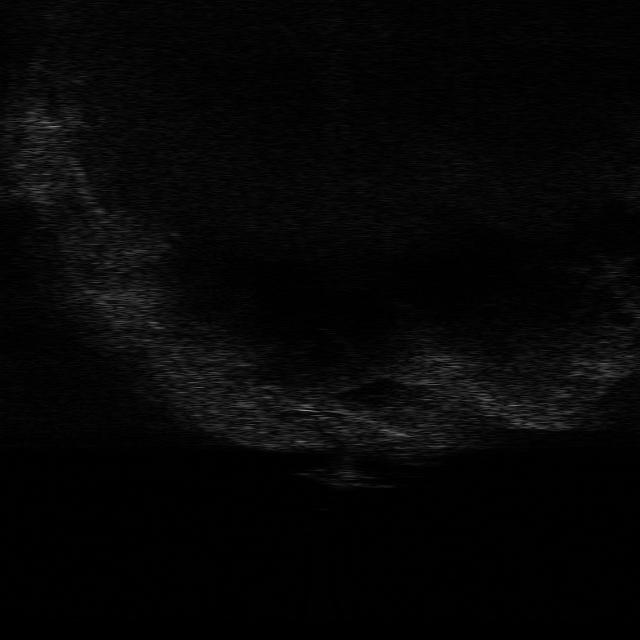plane: (296, 462, 389, 492)
